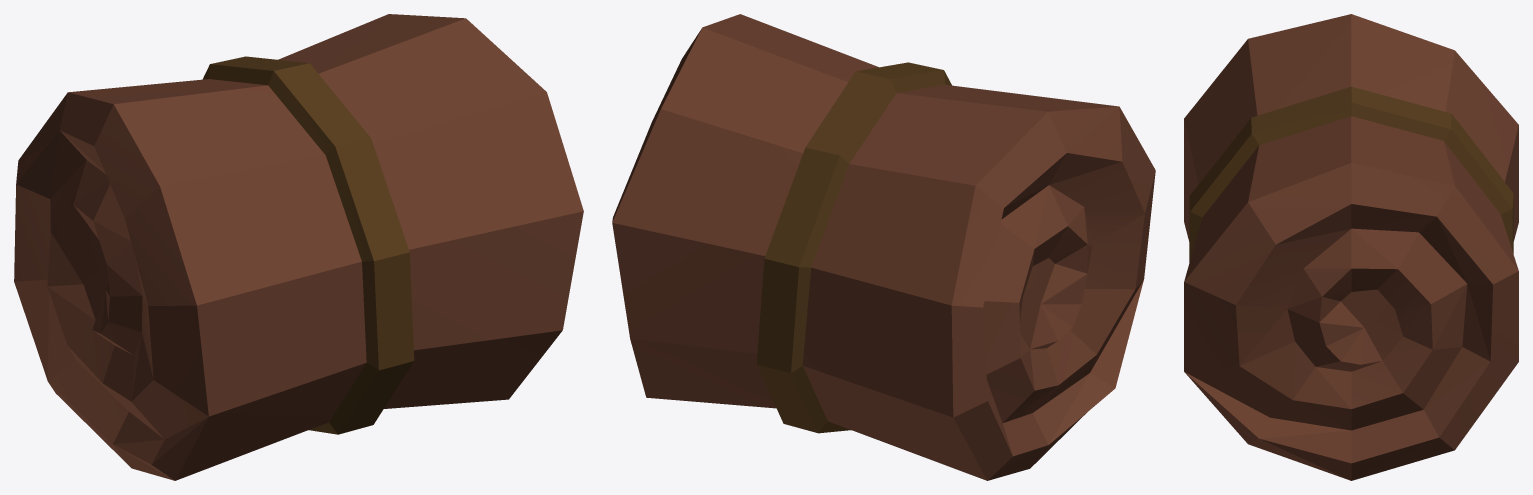
File: Colchoneta.glb
The picture shows the model from 3 angles, left to right: view 1: azimuth 30°, elevation 25°; view 2: azimuth 150°, elevation 25°; view 3: azimuth 270°, elevation 25°; orthographic projection. The views are drawn at different scales.
Visible parts, largest first — view 1: SM_Prop_Fur_Roll_02; view 2: SM_Prop_Fur_Roll_02; view 3: SM_Prop_Fur_Roll_02.
Boxes of the visible parts, x1=… form: SM_Prop_Fur_Roll_02: x1=14, y1=14, x2=583, y2=480; SM_Prop_Fur_Roll_02: x1=612, y1=14, x2=1155, y2=480; SM_Prop_Fur_Roll_02: x1=1184, y1=14, x2=1518, y2=480.
Bounding box in the file's own units: 0.8142 × 0.6752 × 0.6421.
Materials: 1 (1 with a texture image).
